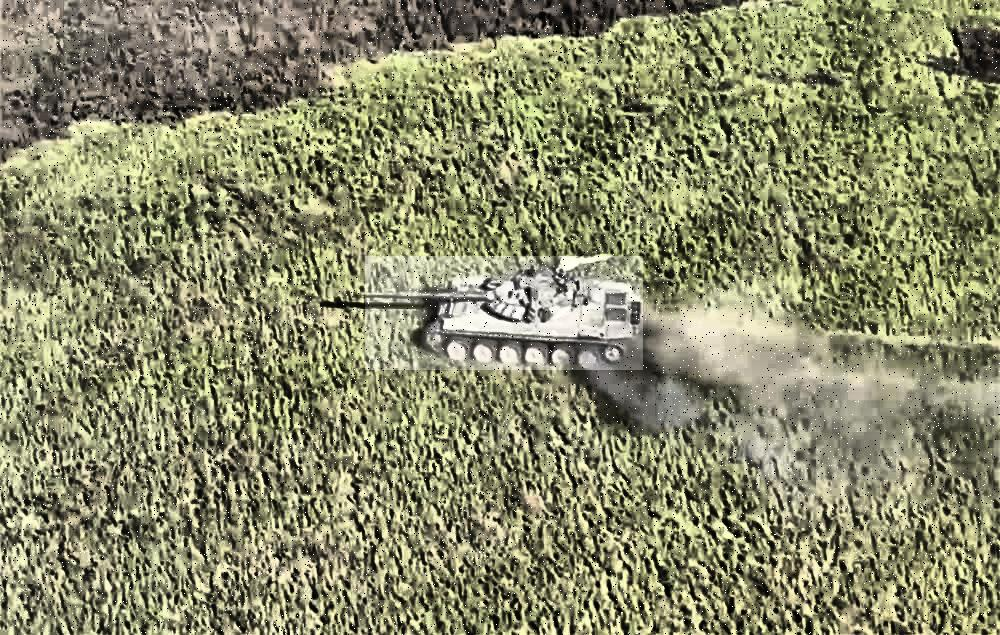military-vehicle: (365, 256, 643, 370)
